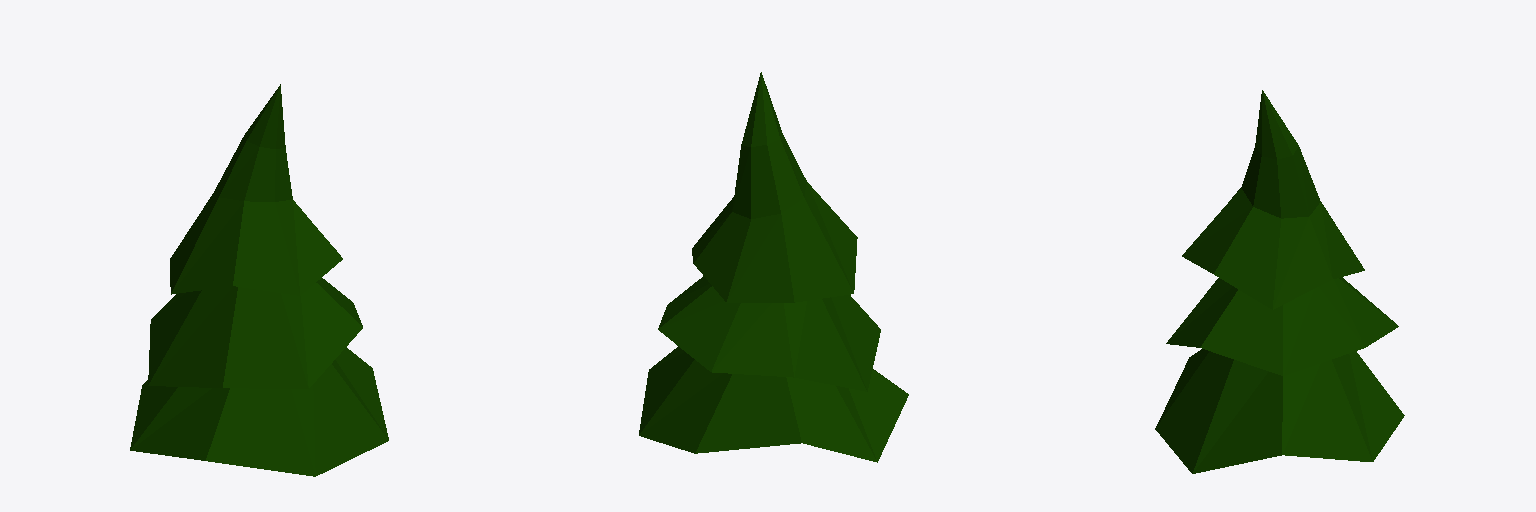
Rendered from tree.obj.
3 views of the same model, side by side, from view 1: azimuth 30°, elevation 25°; view 2: azimuth 150°, elevation 25°; view 3: azimuth 270°, elevation 25° (orthographic).
Visible parts, largest first — view 1: Circle.001_Material.006_0; view 2: Circle.001_Material.006_0; view 3: Circle.001_Material.006_0.
Part boxes in pixels (x1,y1,x2,y2): Circle.001_Material.006_0: (130, 84, 388, 476); Circle.001_Material.006_0: (639, 72, 908, 462); Circle.001_Material.006_0: (1155, 90, 1404, 473).
Size of the model in its own units: 6.35 by 8.98 by 5.82.